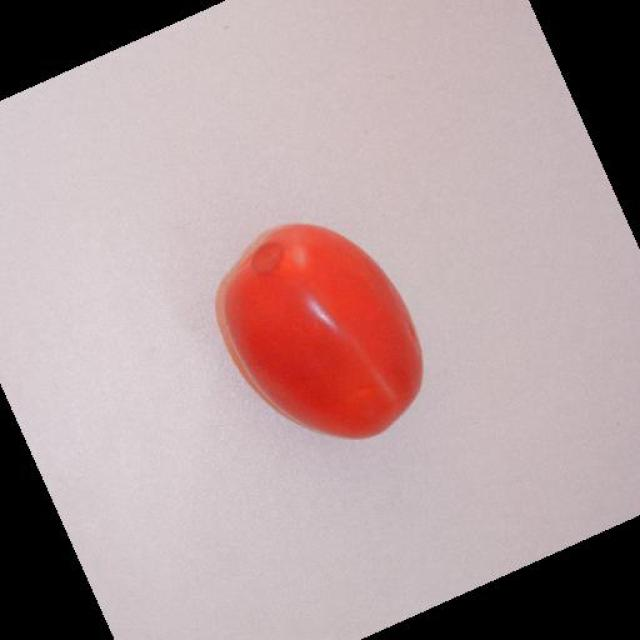Fresh_tomato: (207, 233, 431, 441)
